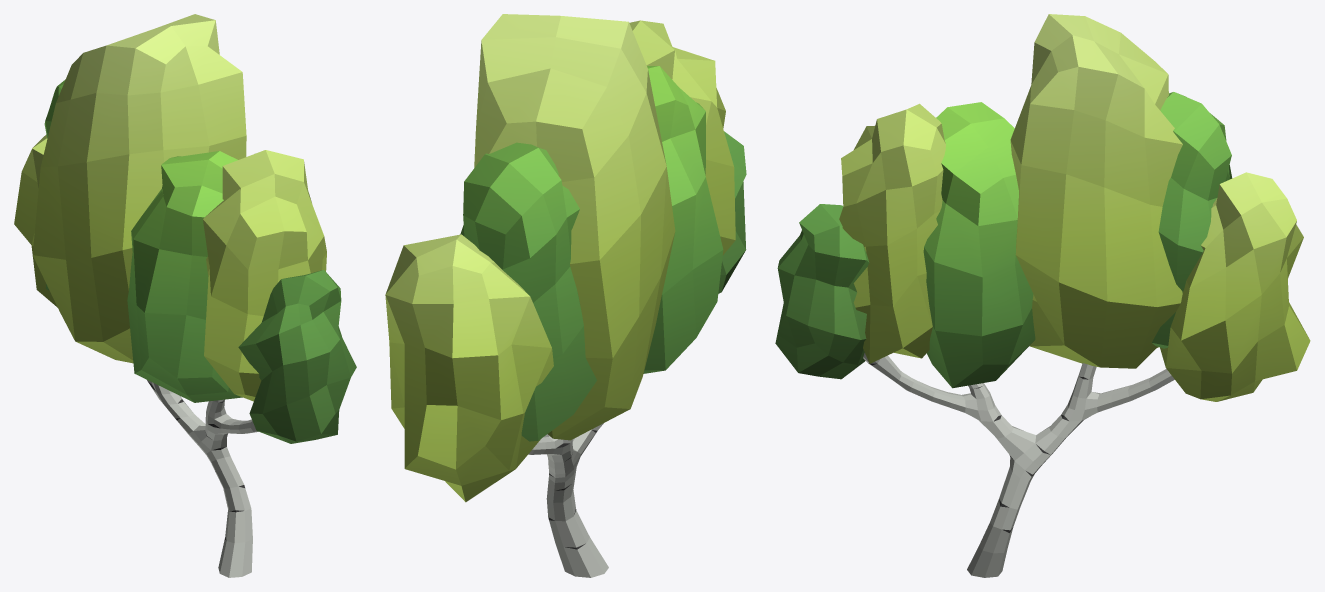
Rendered from BirchTree4.fbx.
The picture shows the model from 3 angles, left to right: view 1: azimuth 30°, elevation 25°; view 2: azimuth 150°, elevation 25°; view 3: azimuth 270°, elevation 25°; orthographic projection. The views are drawn at different scales.
Parts seen in each view (by area): view 1: BirchTree_4_Cube.001, BirchTree_4_Cube.070; view 2: BirchTree_4_Cube.001, BirchTree_4_Cube.070; view 3: BirchTree_4_Cube.001, BirchTree_4_Cube.070.
Boxes of the visible parts, x1,y1,x2,y2 form: BirchTree_4_Cube.001: (14, 14, 356, 443); BirchTree_4_Cube.070: (147, 380, 258, 577); BirchTree_4_Cube.001: (385, 14, 746, 502); BirchTree_4_Cube.070: (528, 423, 608, 577); BirchTree_4_Cube.001: (775, 14, 1310, 401); BirchTree_4_Cube.070: (863, 353, 1174, 577).
Size of the model in its own units: 115 by 356 by 329.
